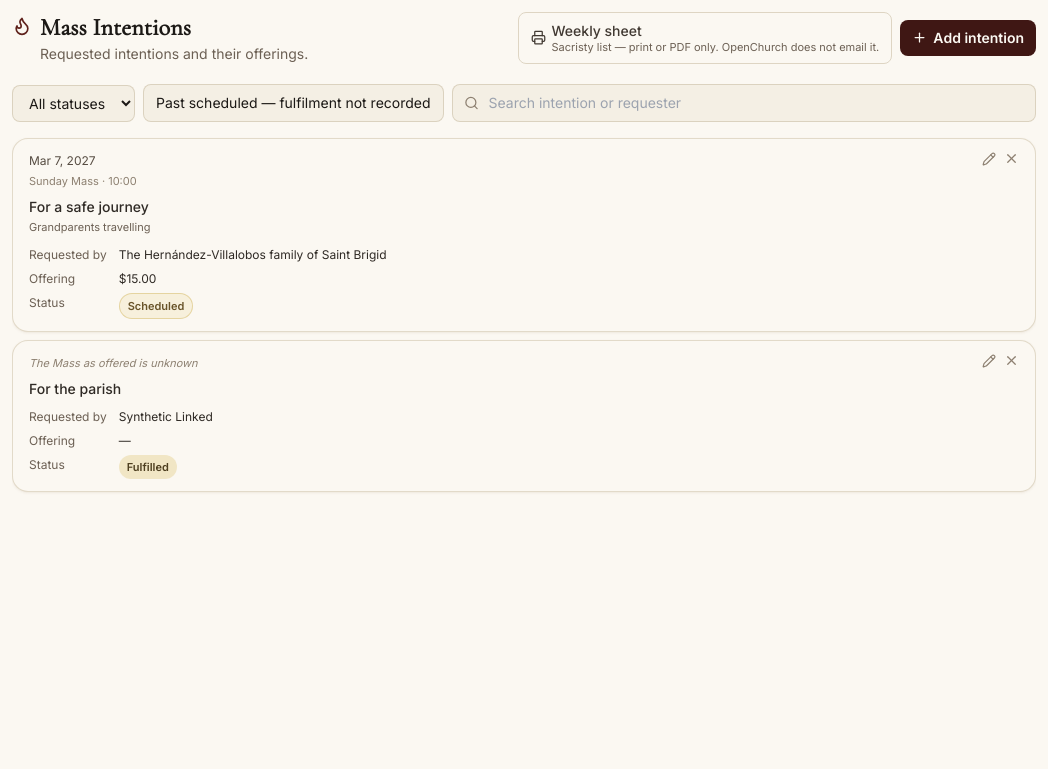
Test case: SP-057 phone card list › phone + canWrite: each card has edit and delete with the same labels and handlers
The image size is (1048, 769).
Expected: the button named "Delete intention" in the row of "Mar 7, 2027" is shown, [1004, 151, 1019, 166]
Expected: the button named "Edit intention" in the row of "The Mass as offered is unknown" is shown, [982, 354, 996, 368]
Click the button named "Edit intention" in the row of "Mar 7, 2027" at (989, 158), box [982, 152, 996, 166]
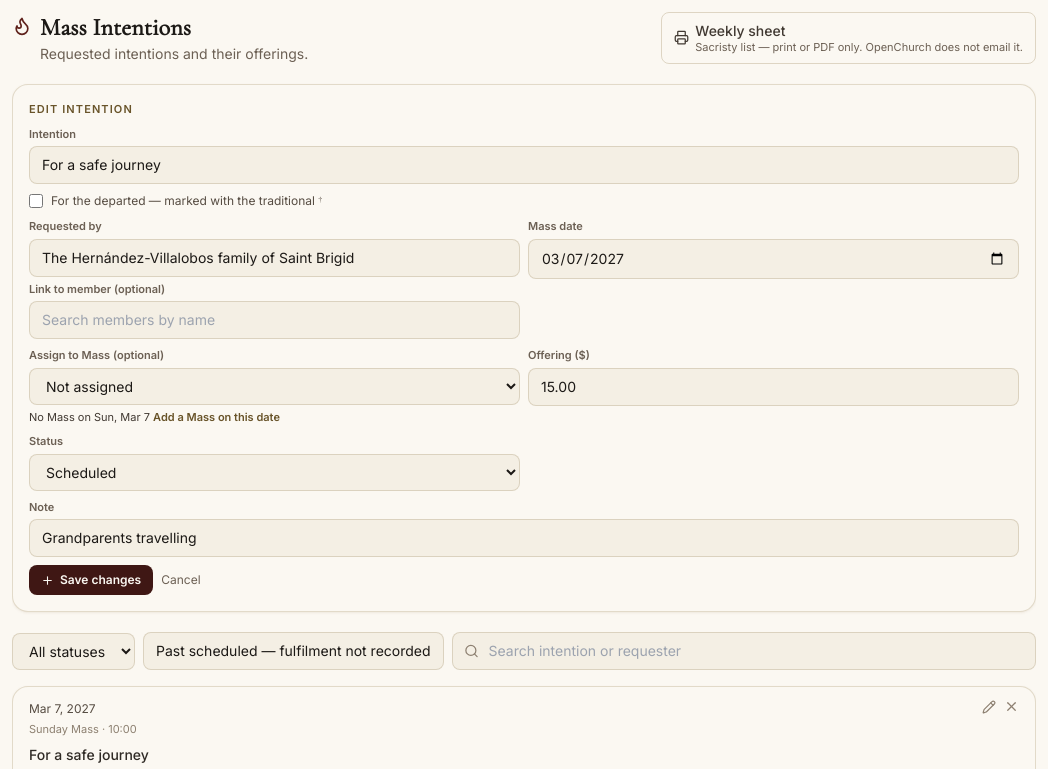
Now the field showing "For a safe journey" is shown, box [29, 146, 1019, 184]
